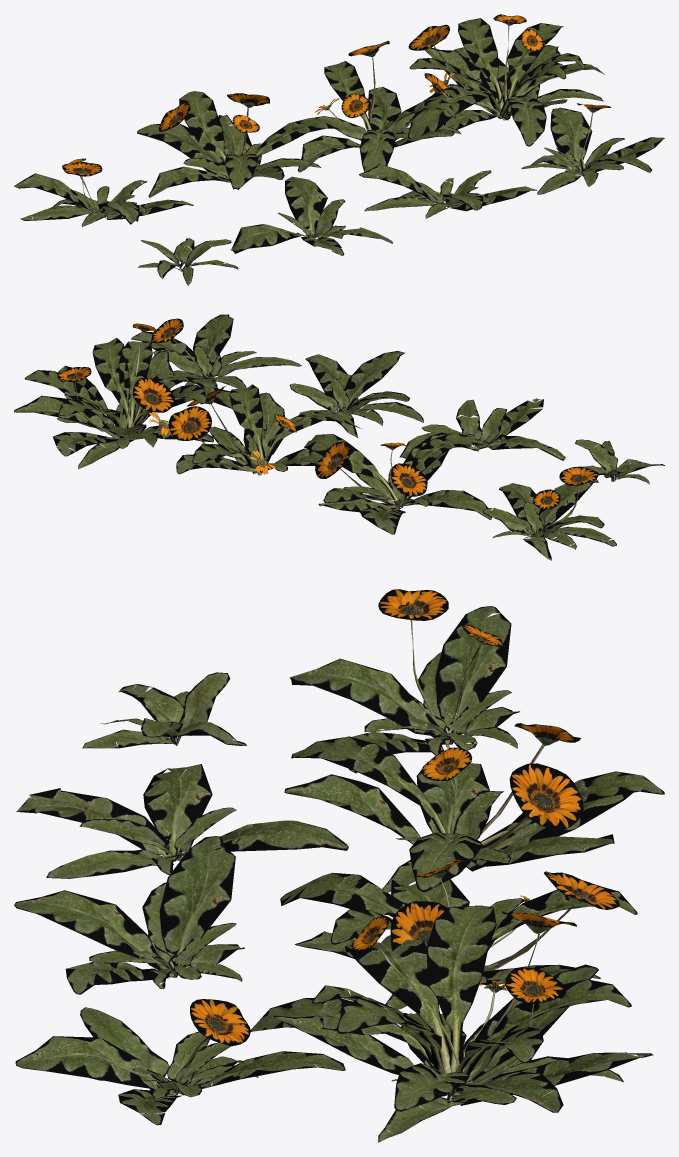
Rendered from veg_flower_gazania.glb.
The picture shows the model from 3 angles, top to bottom: view 1: azimuth 30°, elevation 25°; view 2: azimuth 150°, elevation 25°; view 3: azimuth 270°, elevation 25°; orthographic projection. The views are drawn at different scales.
Visible parts, largest first — view 1: flower_gazania_h_LOD0, flower_gazania_f_LOD0, flower_gazania_g_LOD0, flower_gazania_d_LOD0, flower_gazania_b_LOD0, flower_gazania_e_LOD0, flower_gazania_c_LOD0, flower_gazania_a_LOD0; view 2: flower_gazania_h_LOD0, flower_gazania_f_LOD0, flower_gazania_g_LOD0, flower_gazania_e_LOD0, flower_gazania_c_LOD0, flower_gazania_d_LOD0, flower_gazania_b_LOD0, flower_gazania_a_LOD0; view 3: flower_gazania_h_LOD0, flower_gazania_f_LOD0, flower_gazania_e_LOD0, flower_gazania_c_LOD0, flower_gazania_d_LOD0, flower_gazania_b_LOD0, flower_gazania_g_LOD0, flower_gazania_a_LOD0.
Part boxes in pixels (<box>): flower_gazania_h_LOD0: <box>408,14,604,146</box>; flower_gazania_f_LOD0: <box>137,91,343,197</box>; flower_gazania_g_LOD0: <box>297,41,461,172</box>; flower_gazania_d_LOD0: <box>521,103,664,194</box>; flower_gazania_b_LOD0: <box>230,176,392,255</box>; flower_gazania_e_LOD0: <box>14,158,193,226</box>; flower_gazania_c_LOD0: <box>359,164,536,218</box>; flower_gazania_a_LOD0: <box>138,238,238,285</box>; flower_gazania_h_LOD0: <box>14,323,267,469</box>; flower_gazania_f_LOD0: <box>304,432,491,534</box>; flower_gazania_g_LOD0: <box>168,384,361,475</box>; flower_gazania_e_LOD0: <box>483,466,616,560</box>; flower_gazania_c_LOD0: <box>289,351,423,437</box>; flower_gazania_d_LOD0: <box>131,314,301,389</box>; flower_gazania_b_LOD0: <box>399,398,565,460</box>; flower_gazania_a_LOD0: <box>575,439,664,484</box>; flower_gazania_h_LOD0: <box>250,905,653,1142</box>; flower_gazania_f_LOD0: <box>284,723,664,892</box>; flower_gazania_e_LOD0: <box>289,589,519,773</box>; flower_gazania_c_LOD0: <box>14,836,244,994</box>; flower_gazania_d_LOD0: <box>15,999,345,1125</box>; flower_gazania_b_LOD0: <box>16,764,348,878</box>; flower_gazania_g_LOD0: <box>280,860,637,1009</box>; flower_gazania_a_LOD0: <box>82,672,246,748</box>.
Bounding box in the file's own units: 1.71 × 0.2975 × 0.945.
1 material, 1 textured.
